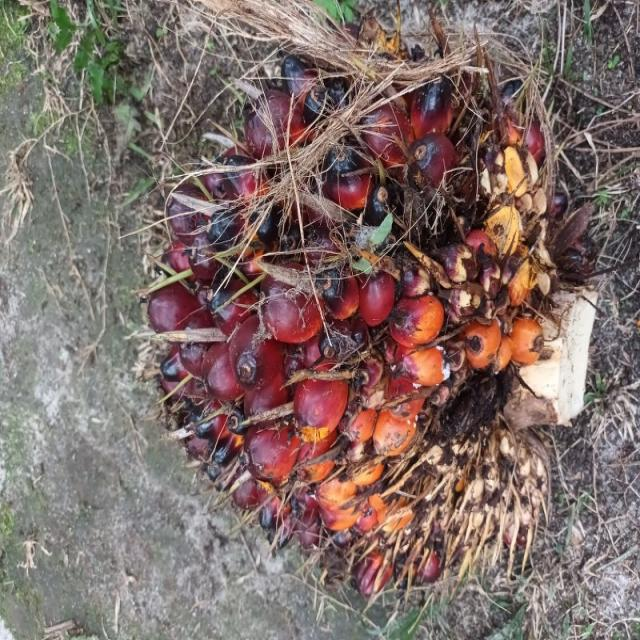fraksi 1: (19, 106, 456, 640)
